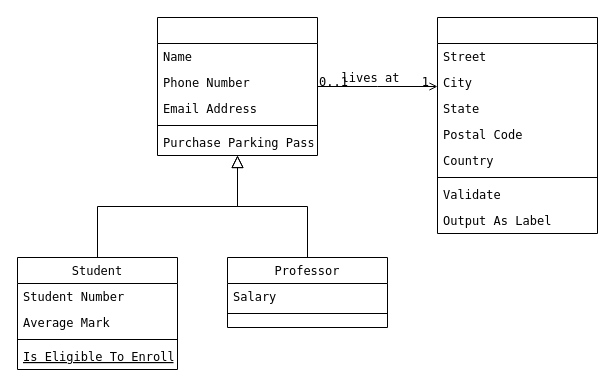
Some shapes in this 615 by 390 pixel diagram are drawn without their labels. Each missing label, with the box of its shape:
Address: (436, 16, 598, 234)
Person: (156, 16, 318, 156)
